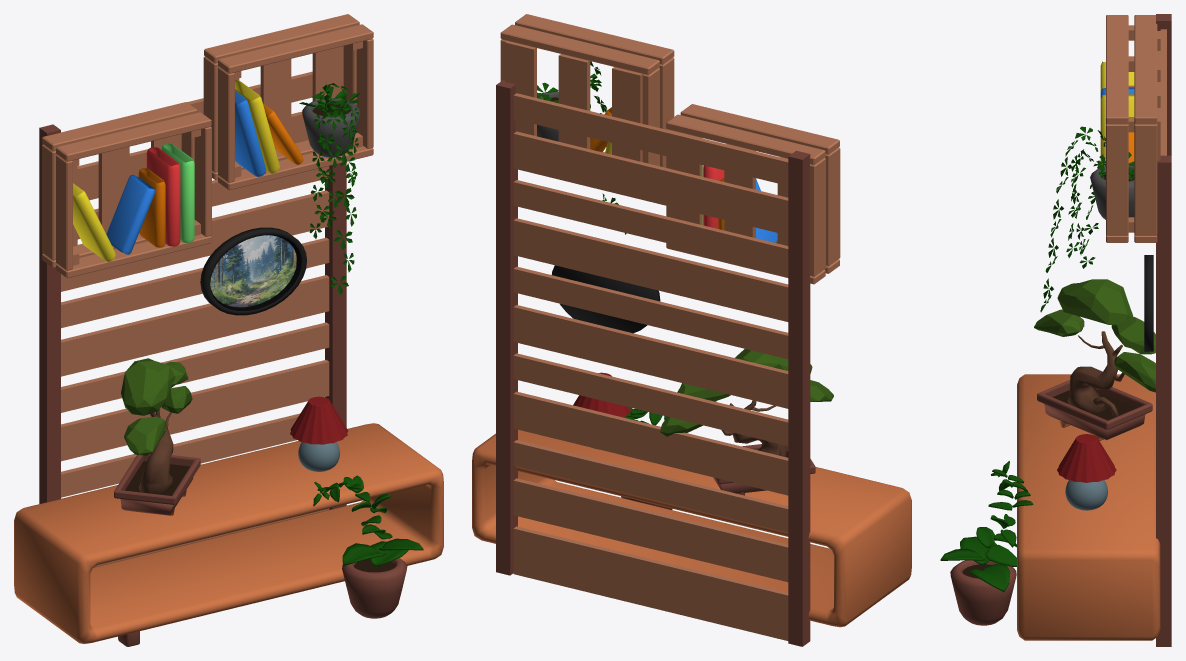
3 renders of one model, left to right at view 1: azimuth 30°, elevation 25°; view 2: azimuth 150°, elevation 25°; view 3: azimuth 270°, elevation 25°, orthographic. The views are drawn at different scales.
Visible parts, largest first — view 1: Cube.018; view 2: Cube.018; view 3: Cube.018.
Boxes of the visible parts, <box> form: Cube.018: <box>14,14,443,646</box>; Cube.018: <box>472,14,911,646</box>; Cube.018: <box>940,14,1171,646</box>.
Size of the model in its own units: 1.58 by 2.16 by 0.8503.
2 materials, 2 textured.
